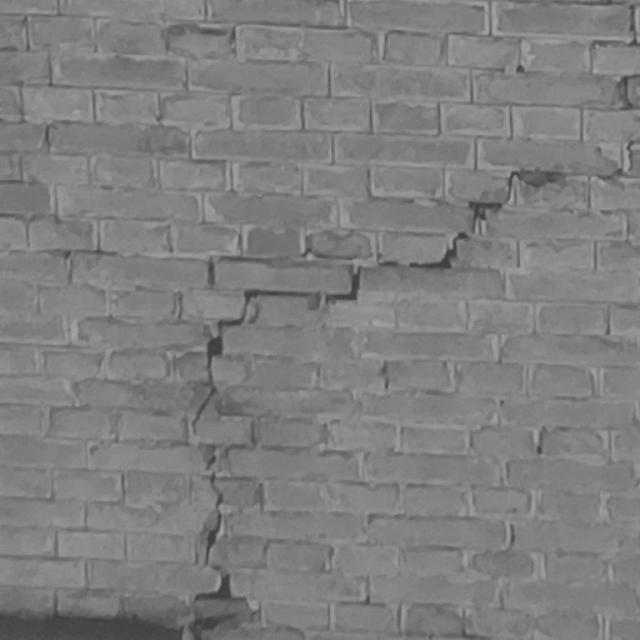crack: (188, 138, 632, 635)
